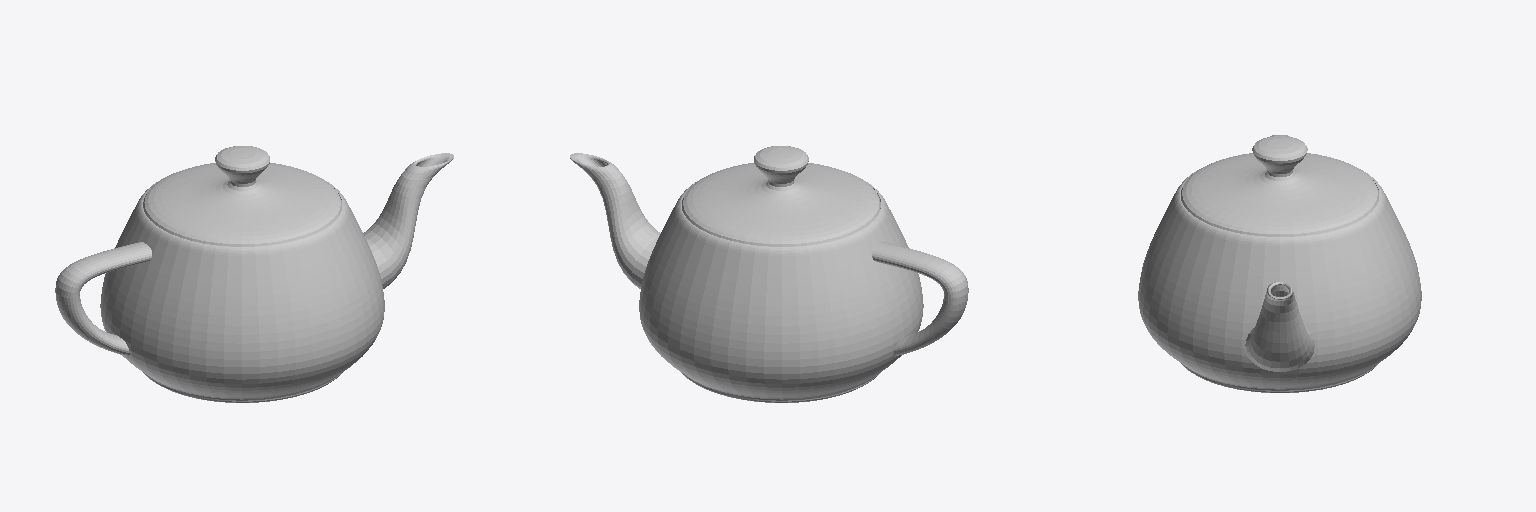
Rendered from teapot_moved.obj.
3 renders of one model, left to right at view 1: azimuth 30°, elevation 25°; view 2: azimuth 150°, elevation 25°; view 3: azimuth 270°, elevation 25°, orthographic.
Visible parts, largest first — view 1: teapot; view 2: teapot; view 3: teapot.
Boxes of the visible parts, x1=… form: teapot: x1=55, y1=146, x2=453, y2=402; teapot: x1=570, y1=146, x2=968, y2=402; teapot: x1=1138, y1=135, x2=1421, y2=392.
Bounding box in the file's own units: 1.54 × 0.7901 × 0.9586.